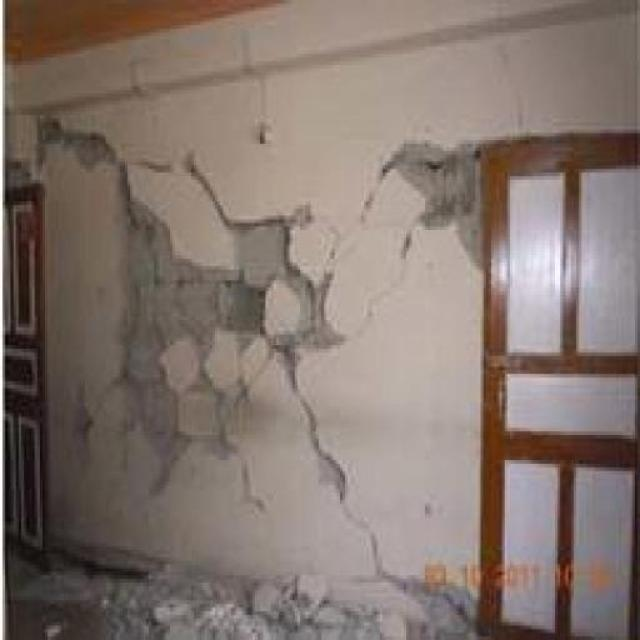D10: (129, 155, 316, 489), (382, 141, 481, 264), (39, 118, 118, 169)
